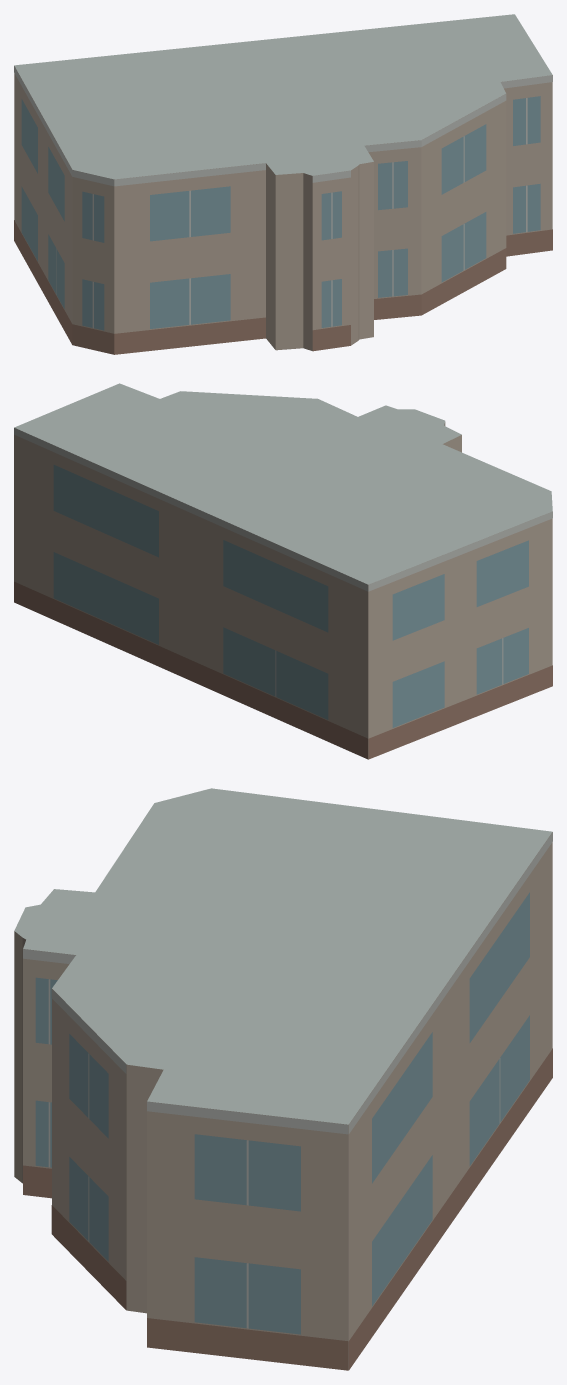
The model's file is survey-upis-32871699.glb.
3 renders of one model, top to bottom at view 1: azimuth 30°, elevation 25°; view 2: azimuth 150°, elevation 25°; view 3: azimuth 270°, elevation 25°, orthographic. The views are drawn at different scales.
Parts seen in each view (by area): view 1: survey-upis-32871699.tmp; view 2: survey-upis-32871699.tmp; view 3: survey-upis-32871699.tmp.
Part boxes in pixels (x1,y1,x2,y2): survey-upis-32871699.tmp: (14,14,552,354); survey-upis-32871699.tmp: (14,383,552,759); survey-upis-32871699.tmp: (14,788,552,1370).
Size of the model in its own units: 17.9 by 6.1 by 12.12.
